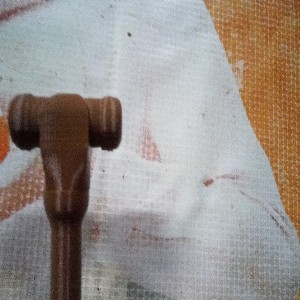palu: (7, 92, 123, 300)
